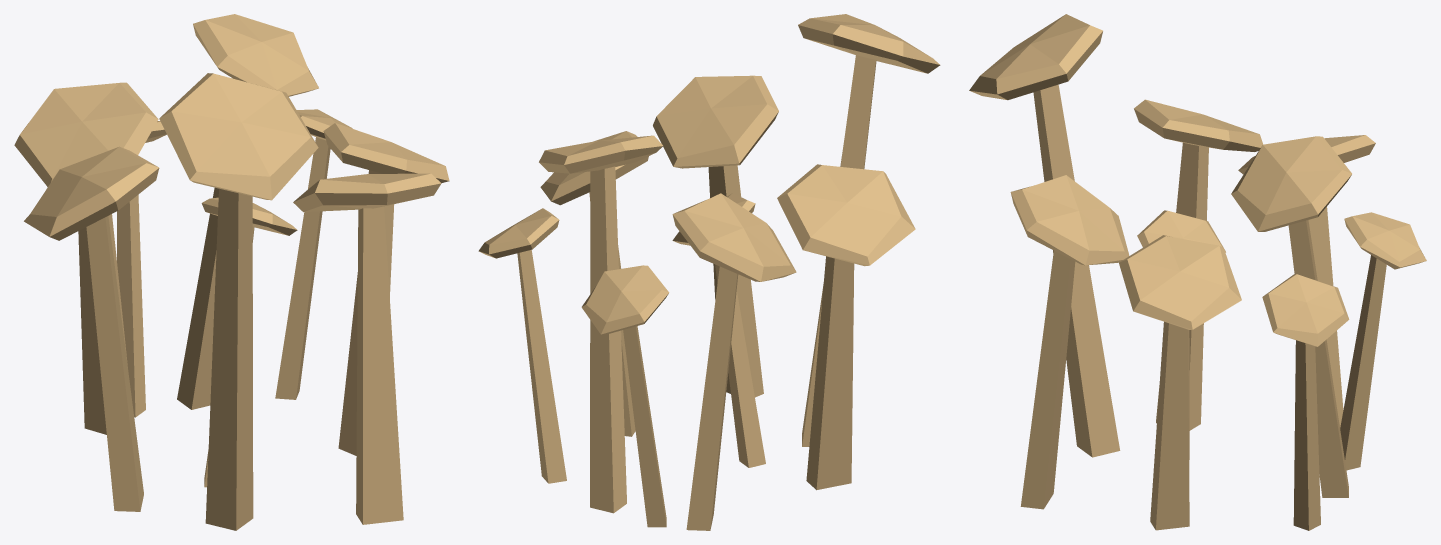
Rendered from Mega_Asset_s_Pack_Cube_385.FBX.
3 renders of one model, left to right at view 1: azimuth 30°, elevation 25°; view 2: azimuth 150°, elevation 25°; view 3: azimuth 270°, elevation 25°, orthographic. The views are drawn at different scales.
Visible parts, largest first — view 1: Mega_Asset_s_Pack_Cube_385; view 2: Mega_Asset_s_Pack_Cube_385; view 3: Mega_Asset_s_Pack_Cube_385.
Boxes of the visible parts, <box> form: Mega_Asset_s_Pack_Cube_385: <box>14,14,449,530</box>; Mega_Asset_s_Pack_Cube_385: <box>478,14,940,530</box>; Mega_Asset_s_Pack_Cube_385: <box>969,14,1426,530</box>.
Size of what is drawn, in the model's own units: 80.05 by 88.43 by 88.26.
